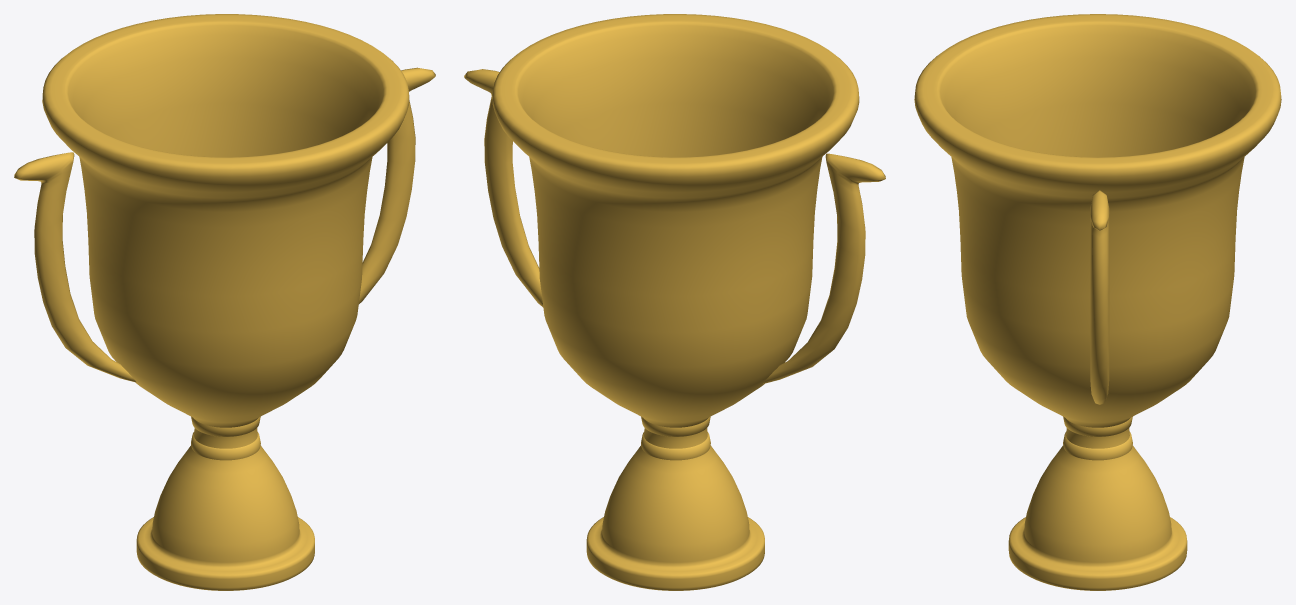
The model's file is Cup 2.fbx.
3 renders of one model, left to right at view 1: azimuth 30°, elevation 25°; view 2: azimuth 150°, elevation 25°; view 3: azimuth 270°, elevation 25°, orthographic.
Parts seen in each view (by area): view 1: Plane; view 2: Plane; view 3: Plane.
Part boxes in pixels (x1=…): Plane: x1=14, y1=14, x2=435, y2=590; Plane: x1=464, y1=14, x2=885, y2=590; Plane: x1=914, y1=14, x2=1281, y2=590.
Bounding box in the file's own units: 247 × 260 × 186.
